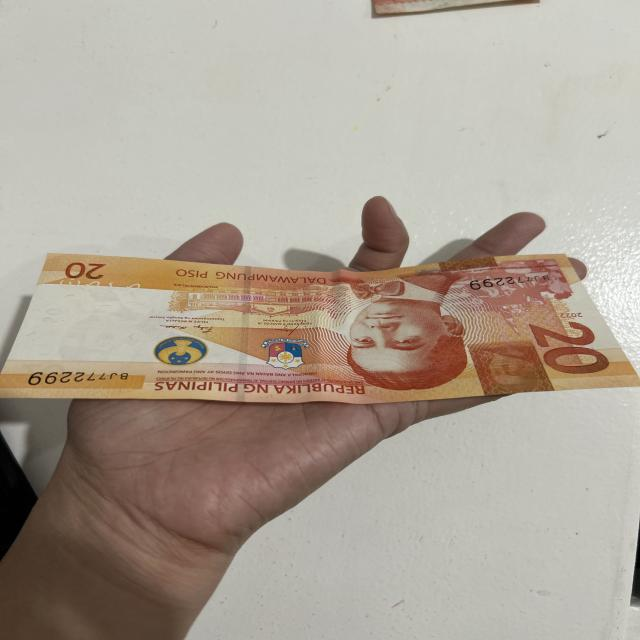concealed_value: (470, 340, 553, 394)
security_thread: (230, 266, 266, 401)
see_through_mark: (46, 274, 148, 298)
serial_number: (467, 267, 569, 303), (20, 364, 145, 392)
value: (519, 316, 623, 383)
value_watermark: (29, 299, 69, 329)
